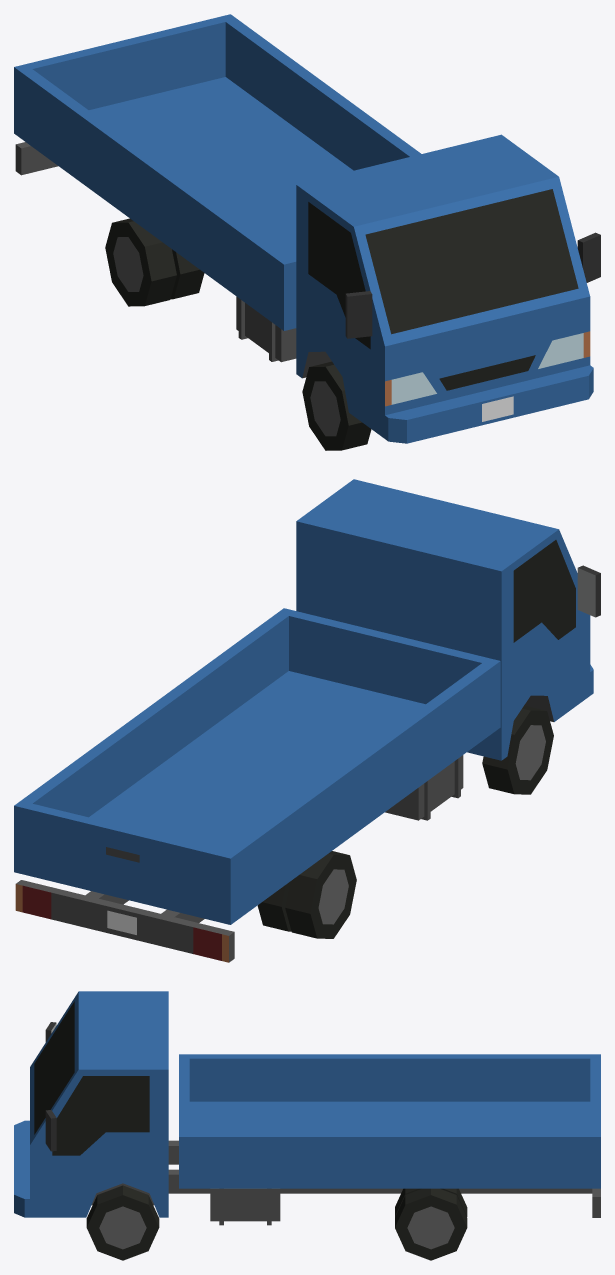
Rendered from Veh_Truck_02_Flat_Blue.glb.
3 views of the same model, one above another, from view 1: azimuth 30°, elevation 25°; view 2: azimuth 150°, elevation 25°; view 3: azimuth 270°, elevation 25° (orthographic). The views are drawn at different scales.
Parts seen in each view (by area): view 1: Truck_02_Flat_Blue, Wheel_RR, Wheel_FR; view 2: Truck_02_Flat_Blue, Wheel_RR, Wheel_FR; view 3: Truck_02_Flat_Blue, Wheel_RL, Wheel_FL.
Part boxes in pixels (x1,y1,x2,y2): Truck_02_Flat_Blue: (14, 14, 600, 443); Wheel_RR: (105, 218, 204, 306); Wheel_FR: (302, 361, 371, 450); Truck_02_Flat_Blue: (14, 479, 600, 962); Wheel_RR: (257, 851, 356, 938); Wheel_FR: (482, 705, 553, 794); Truck_02_Flat_Blue: (14, 991, 600, 1225); Wheel_RL: (395, 1188, 467, 1260); Wheel_FL: (86, 1185, 159, 1260).
Size of the model in its own units: 1.27 by 1.17 by 3.26.
Materials: 1 (1 with a texture image).
